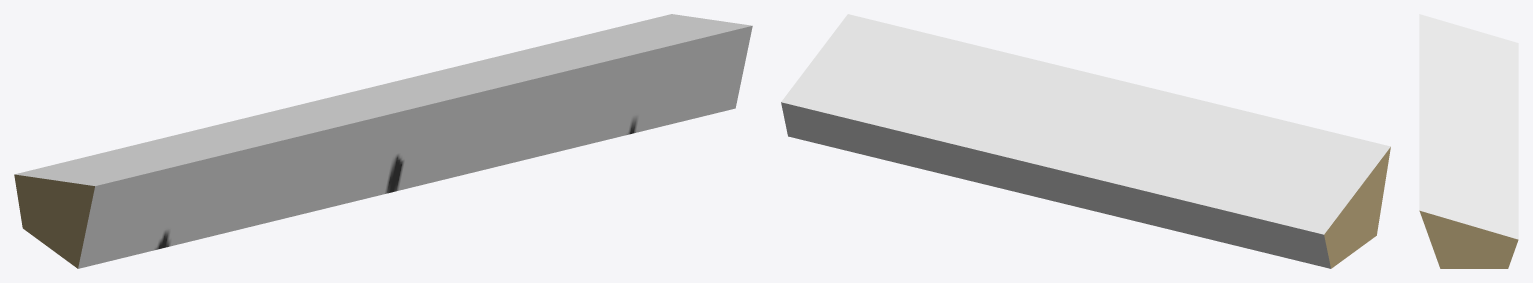
The model's file is Birch_Firewood_Snow_05_LOD.fbx.
3 views of the same model, side by side, from view 1: azimuth 30°, elevation 25°; view 2: azimuth 150°, elevation 25°; view 3: azimuth 270°, elevation 25° (orthographic). The views are drawn at different scales.
Visible parts, largest first — view 1: Birch_Firewood_Snow_05_LOD0; view 2: Birch_Firewood_Snow_05_LOD0; view 3: Birch_Firewood_Snow_05_LOD0.
Part boxes in pixels (x1,y1,x2,y2): Birch_Firewood_Snow_05_LOD0: [14, 14, 752, 268]; Birch_Firewood_Snow_05_LOD0: [781, 14, 1390, 268]; Birch_Firewood_Snow_05_LOD0: [1419, 14, 1518, 268].
Size of what is drawn, in the model's own units: 56 by 7.76 by 11.95.
